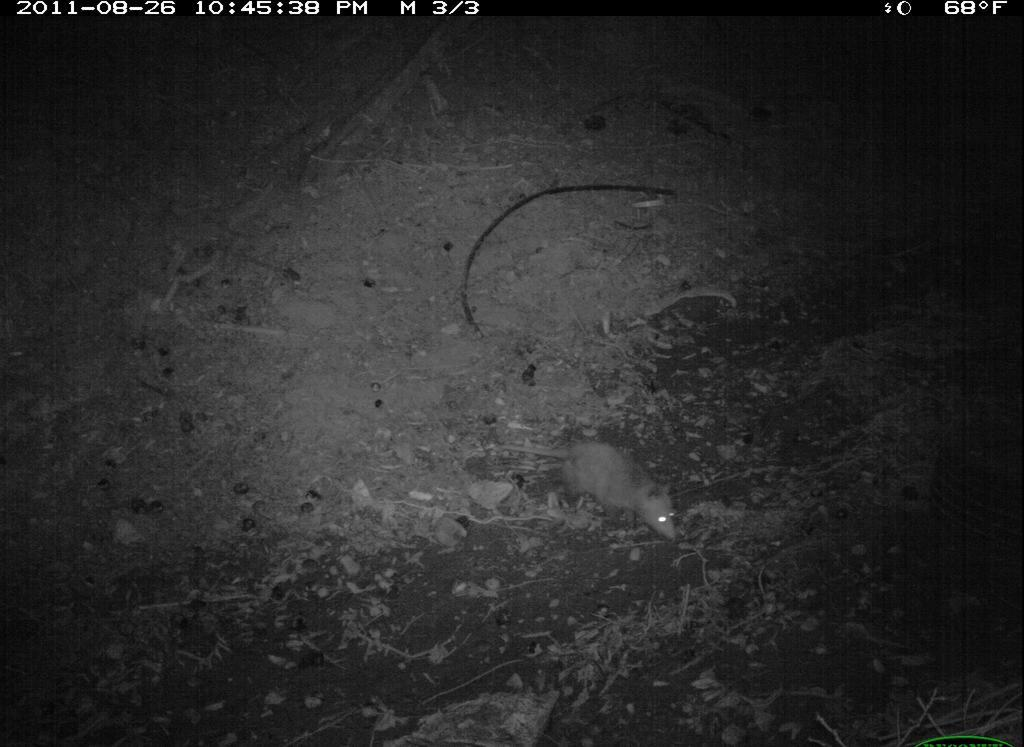opossum: (501, 422, 688, 553)
